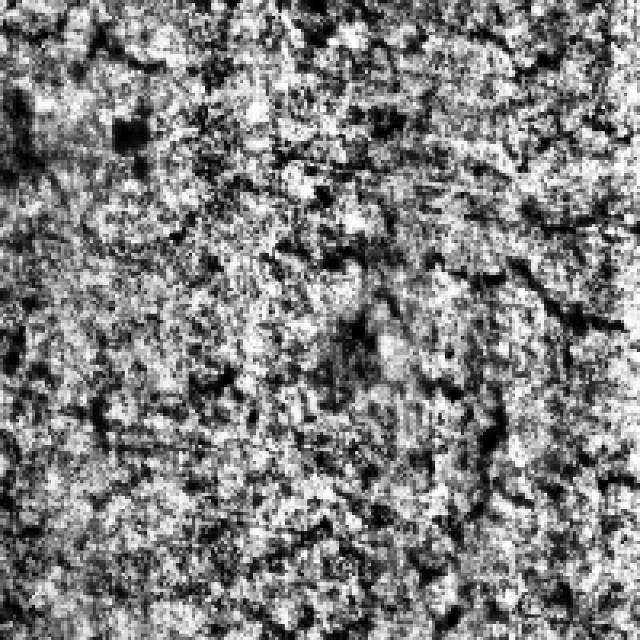Pitted_Surface: (262, 170, 637, 548)
